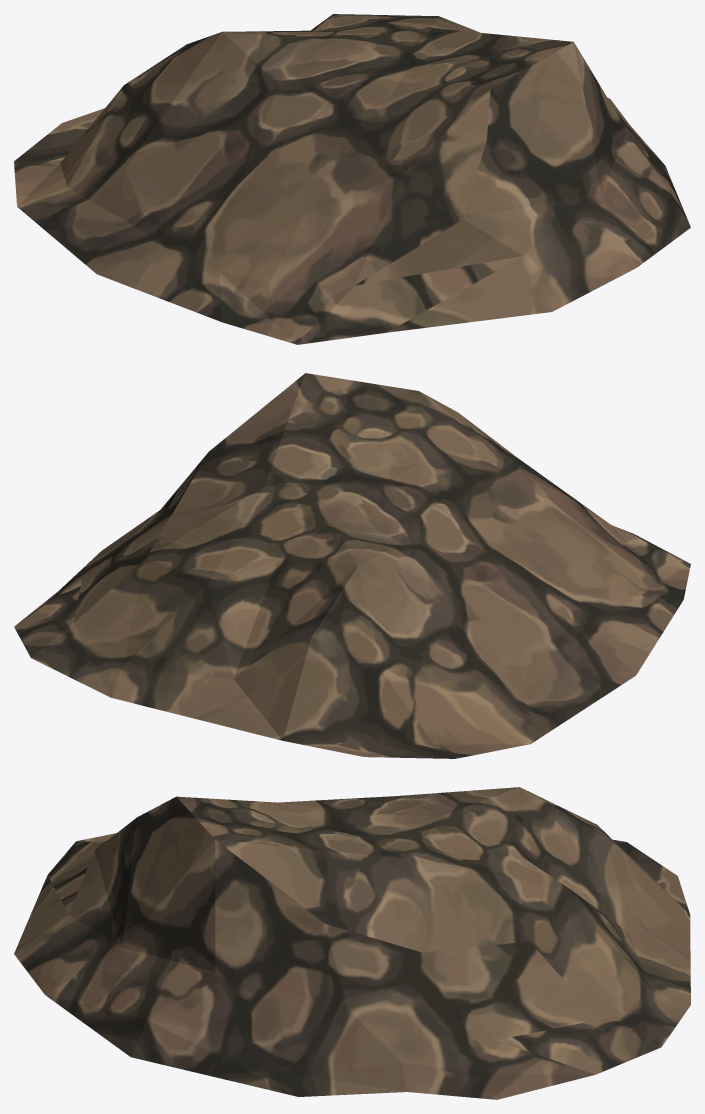
The model's file is trash-floor-3.fbx.
3 renders of one model, top to bottom at view 1: azimuth 30°, elevation 25°; view 2: azimuth 150°, elevation 25°; view 3: azimuth 270°, elevation 25°, orthographic. The views are drawn at different scales.
Parts seen in each view (by area): view 1: trash-floor-3; view 2: trash-floor-3; view 3: trash-floor-3.
Boxes of the visible parts, x1=… form: trash-floor-3: x1=14, y1=14, x2=690, y2=344; trash-floor-3: x1=14, y1=373, x2=690, y2=758; trash-floor-3: x1=14, y1=787, x2=690, y2=1099.
Size of the model in its own units: 2.07 by 0.6596 by 2.12.
